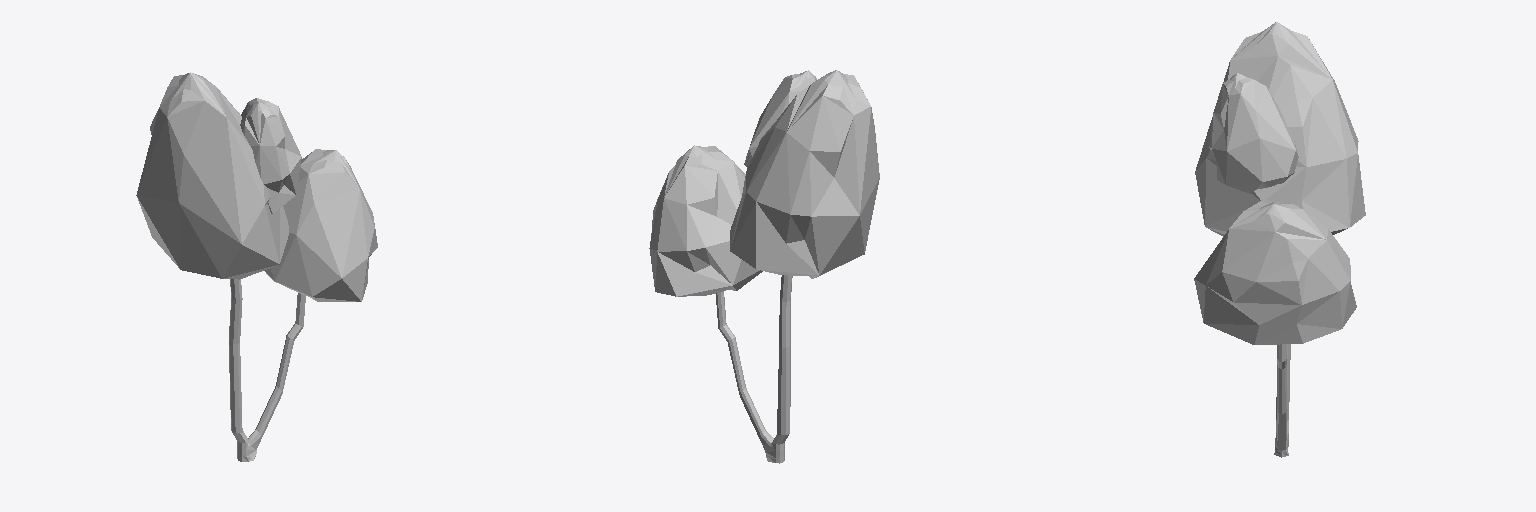
The model's file is tree_birch_04.obj.
3 views of the same model, side by side, from view 1: azimuth 30°, elevation 25°; view 2: azimuth 150°, elevation 25°; view 3: azimuth 270°, elevation 25° (orthographic).
Visible parts, largest first — view 1: geo_leavesClump011 tree_birch_04, tree_birch_04 geo_leavesClump09, tree_birch_04 geo_leavesClump010, tree_birch_04 geo_trunk010; view 2: geo_leavesClump011 tree_birch_04, tree_birch_04 geo_leavesClump09, tree_birch_04 geo_trunk010, tree_birch_04 geo_leavesClump010; view 3: tree_birch_04 geo_leavesClump09, geo_leavesClump011 tree_birch_04, tree_birch_04 geo_leavesClump010, tree_birch_04 geo_trunk010.
Part boxes in pixels (left/top/right/bottom): geo_leavesClump011 tree_birch_04: left=136, top=72, right=288, bottom=279; tree_birch_04 geo_leavesClump09: left=264, top=149, right=377, bottom=301; tree_birch_04 geo_leavesClump010: left=240, top=98, right=301, bottom=213; tree_birch_04 geo_trunk010: left=229, top=279, right=305, bottom=461; geo_leavesClump011 tree_birch_04: left=730, top=70, right=879, bottom=278; tree_birch_04 geo_leavesClump09: left=649, top=145, right=762, bottom=296; tree_birch_04 geo_trunk010: left=716, top=275, right=792, bottom=463; tree_birch_04 geo_leavesClump010: left=744, top=70, right=816, bottom=167; tree_birch_04 geo_leavesClump09: left=1194, top=200, right=1356, bottom=344; geo_leavesClump011 tree_birch_04: left=1195, top=22, right=1365, bottom=236; tree_birch_04 geo_leavesClump010: left=1209, top=73, right=1298, bottom=193; tree_birch_04 geo_trunk010: left=1274, top=344, right=1290, bottom=457.
Size of the model in its own units: 3.01 by 5.48 by 2.12.